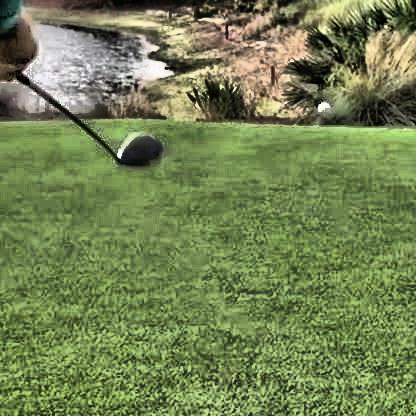golfball: (314, 99, 328, 115)
